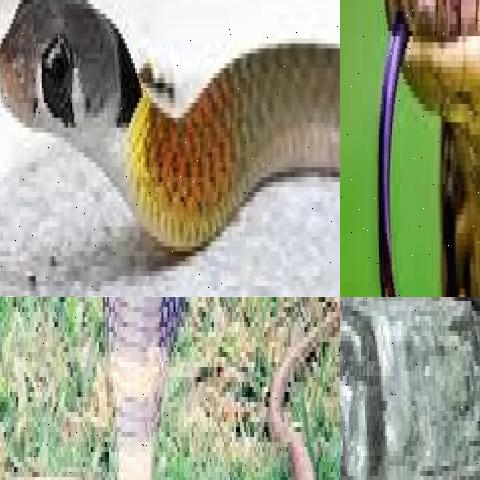snake: (0, 0, 340, 297), (0, 297, 329, 480), (352, 0, 480, 297), (340, 297, 480, 480)
